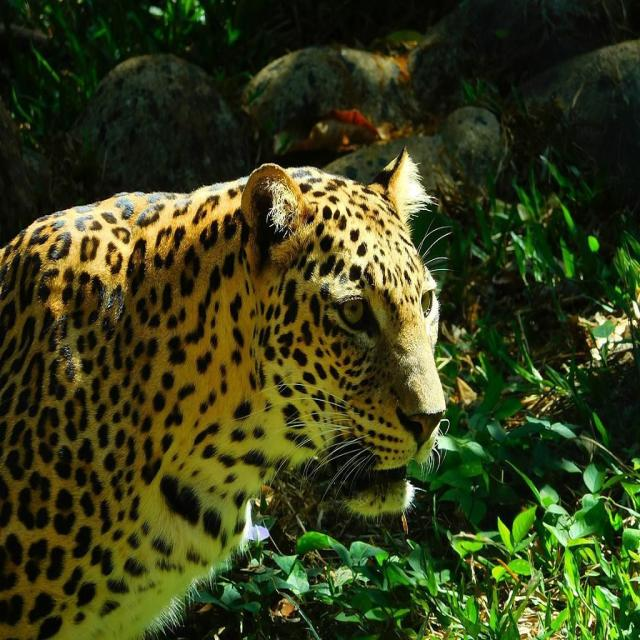Leopard: (0, 157, 450, 640)
